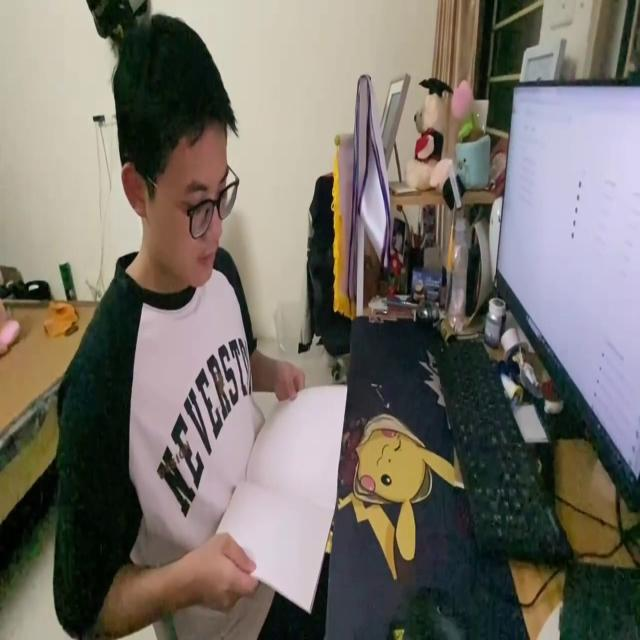book: (216, 376, 348, 616)
laptop: (492, 69, 640, 510)
student: (56, 6, 328, 640)
